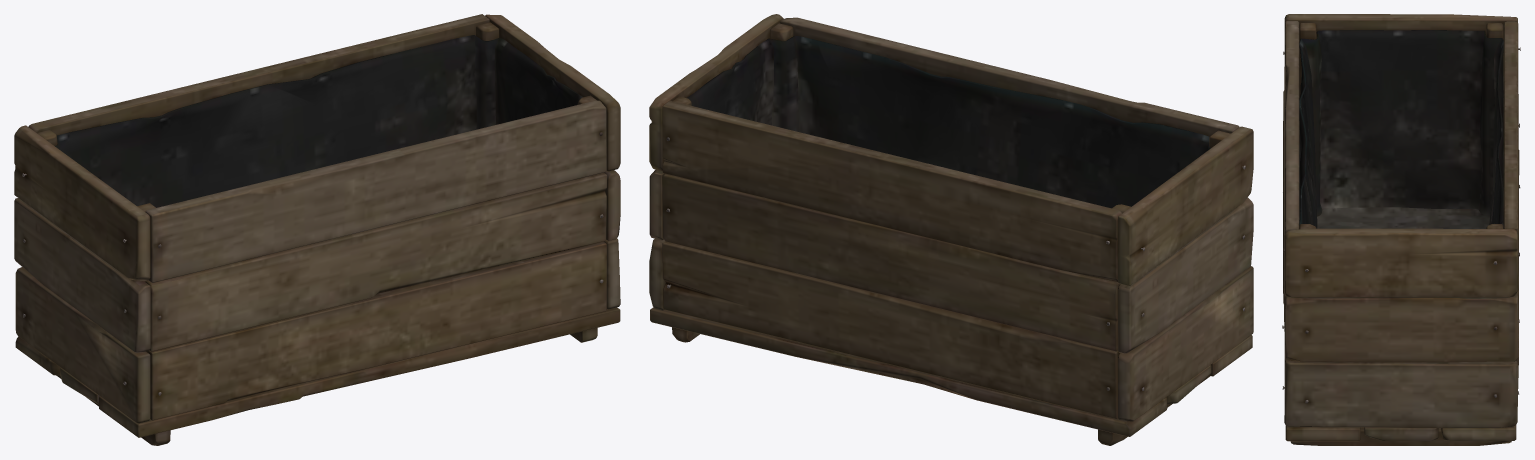
The model's file is planter_box_01.glb.
3 renders of one model, left to right at view 1: azimuth 30°, elevation 25°; view 2: azimuth 150°, elevation 25°; view 3: azimuth 270°, elevation 25°, orthographic. The views are drawn at different scales.
Parts seen in each view (by area): view 1: planter_box_01; view 2: planter_box_01; view 3: planter_box_01.
Part boxes in pixels (x1,y1,x2,y2): planter_box_01: [14, 14, 620, 445]; planter_box_01: [649, 14, 1253, 445]; planter_box_01: [1282, 14, 1520, 445].
Size of the model in its own units: 0.9126 by 0.4249 by 0.4137.
1 material, 1 textured.
